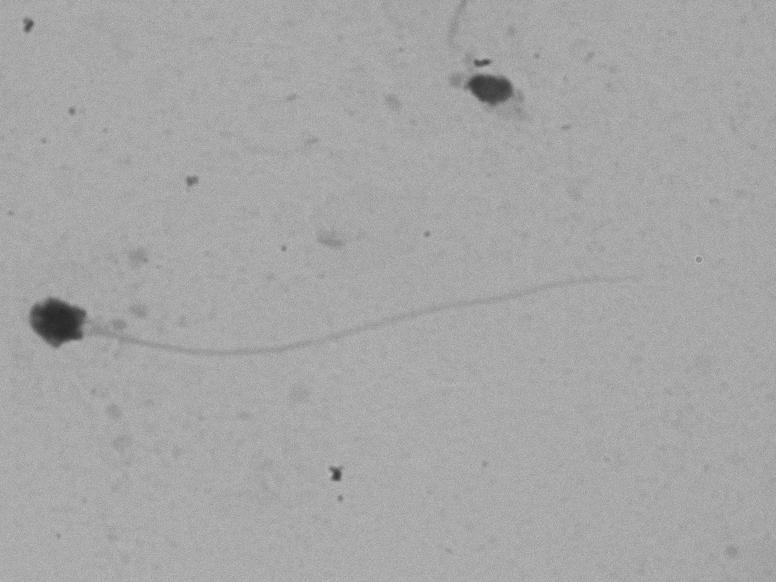Abnormal: (12, 193, 679, 396)
